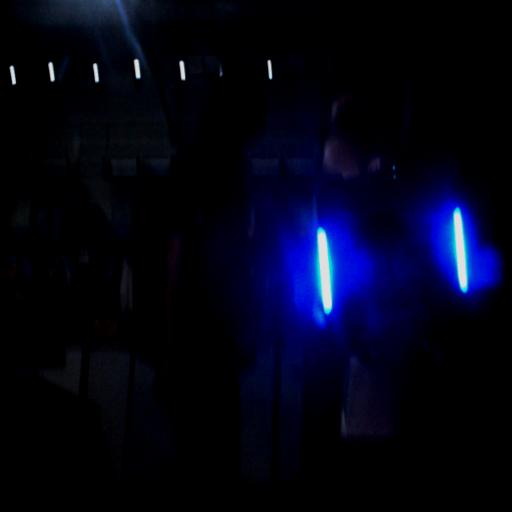target: (308, 173, 478, 336)
